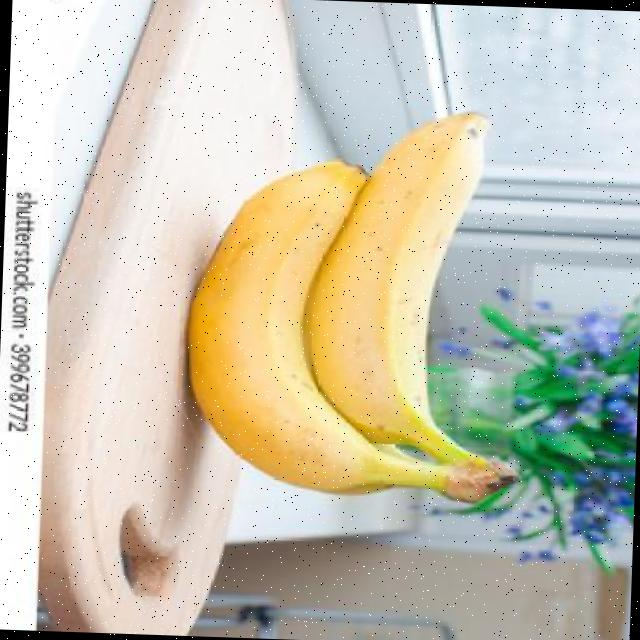banana: (188, 159, 449, 494), (304, 110, 487, 466)
